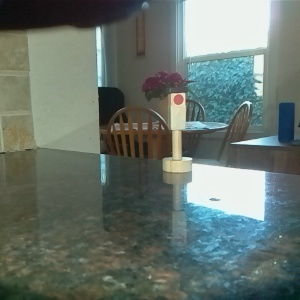traffic light red: (161, 85, 193, 174)
